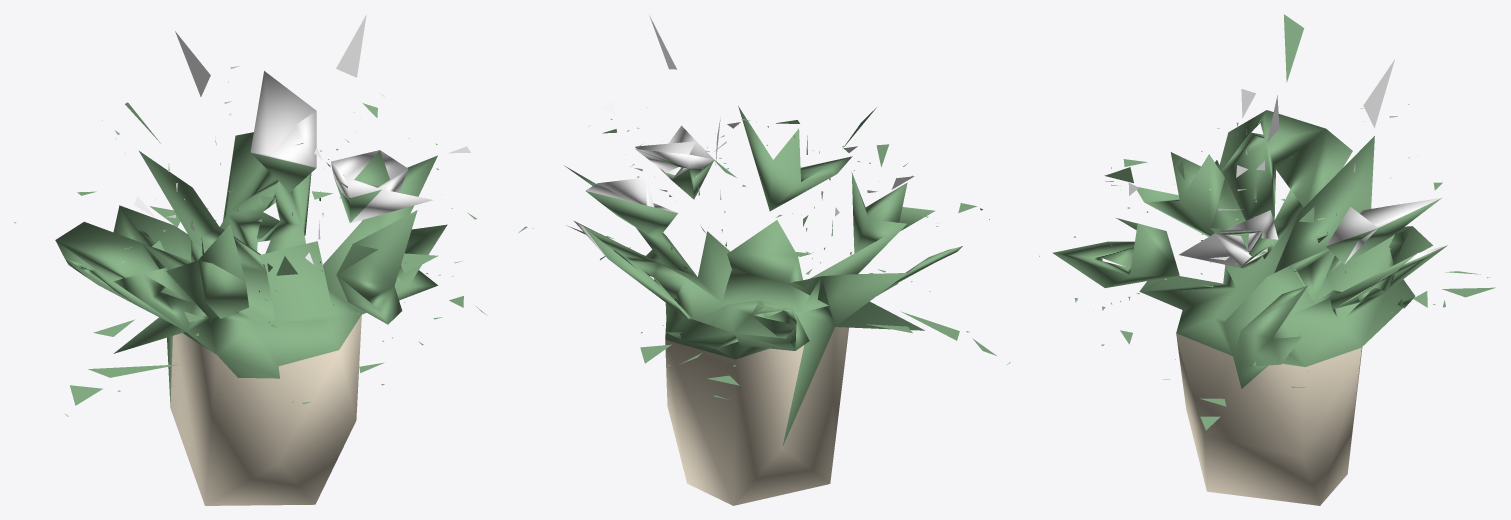
3 renders of one model, left to right at view 1: azimuth 30°, elevation 25°; view 2: azimuth 150°, elevation 25°; view 3: azimuth 270°, elevation 25°, orthographic.
Parts seen in each view (by area): view 1: Lily arrangement - Meshy silhouette; view 2: Lily arrangement - Meshy silhouette; view 3: Lily arrangement - Meshy silhouette.
Boxes of the visible parts, box(x1,y1,x2,y2) form: Lily arrangement - Meshy silhouette: box(14, 14, 487, 505); Lily arrangement - Meshy silhouette: box(518, 15, 1010, 505); Lily arrangement - Meshy silhouette: box(1039, 14, 1495, 505).
Bounding box in the file's own units: 0.8004 × 0.7554 × 0.7112.
Materials: 1 (1 with a texture image).
